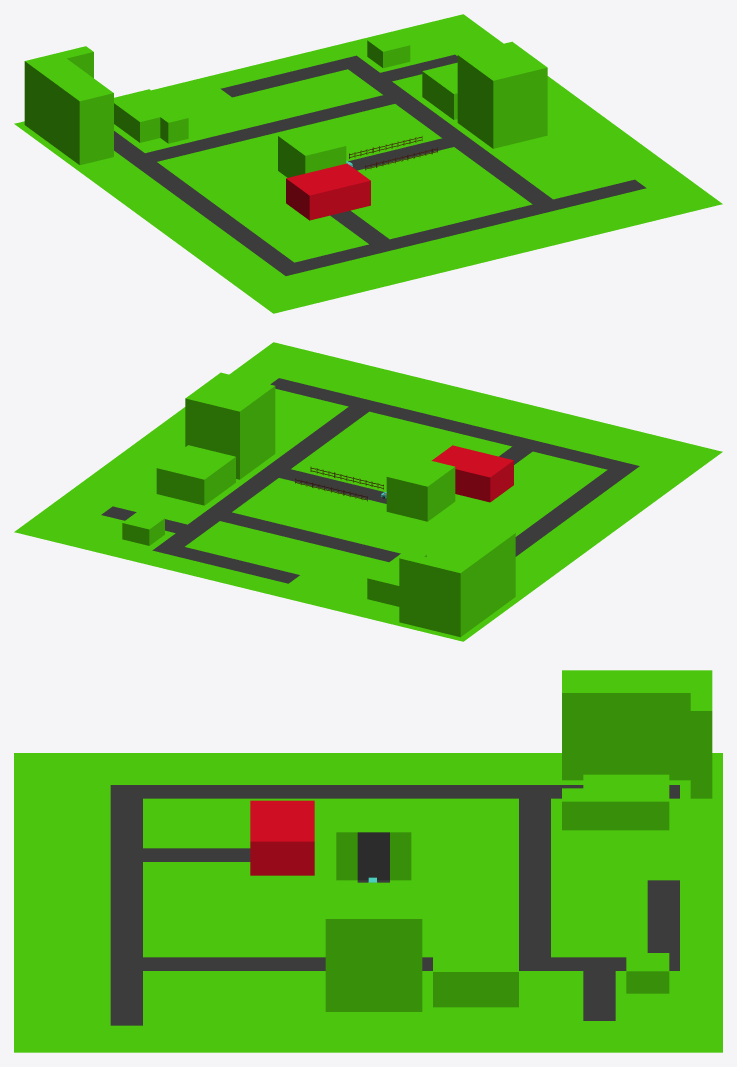
Rendered from Car.glb.
3 renders of one model, top to bottom at view 1: azimuth 30°, elevation 25°; view 2: azimuth 150°, elevation 25°; view 3: azimuth 270°, elevation 25°, orthographic. The views are drawn at different scales.
Parts seen in each view (by area): view 1: Ground, Building.005, Building.004, Building, Building.006, Building.001, Building.003, Building.002; view 2: Ground, Building.005, Building.004, Building.001, Building.003, Building, Building.006, Building.002; view 3: Ground, Building.005, Building.004, Building.006, Building.003, Building.001, Building, Building.002.
Part boxes in pixels (x1,y1,x2,y2): Ground: [14, 14, 722, 313]; Building.005: [24, 46, 113, 165]; Building.004: [457, 41, 547, 148]; Building: [286, 163, 370, 220]; Building.006: [114, 89, 188, 143]; Building.001: [278, 126, 346, 177]; Building.003: [422, 62, 457, 119]; Building.002: [367, 33, 410, 68]; Ground: [14, 342, 722, 641]; Building.005: [399, 524, 515, 637]; Building.004: [185, 372, 275, 479]; Building.001: [386, 456, 455, 521]; Building.003: [156, 445, 235, 505]; Building: [431, 445, 513, 502]; Building.006: [367, 549, 426, 606]; Building.002: [122, 511, 164, 545]; Ground: [14, 753, 722, 1052]; Building.005: [562, 670, 712, 798]; Building.004: [325, 882, 422, 1011]; Building.006: [562, 774, 669, 830]; Building.003: [433, 940, 518, 1007]; Building.001: [336, 805, 411, 880]; Building: [250, 800, 314, 875]; Building.002: [626, 953, 669, 993].
Bounding box in the file's own units: 168 × 24.35 × 168.
